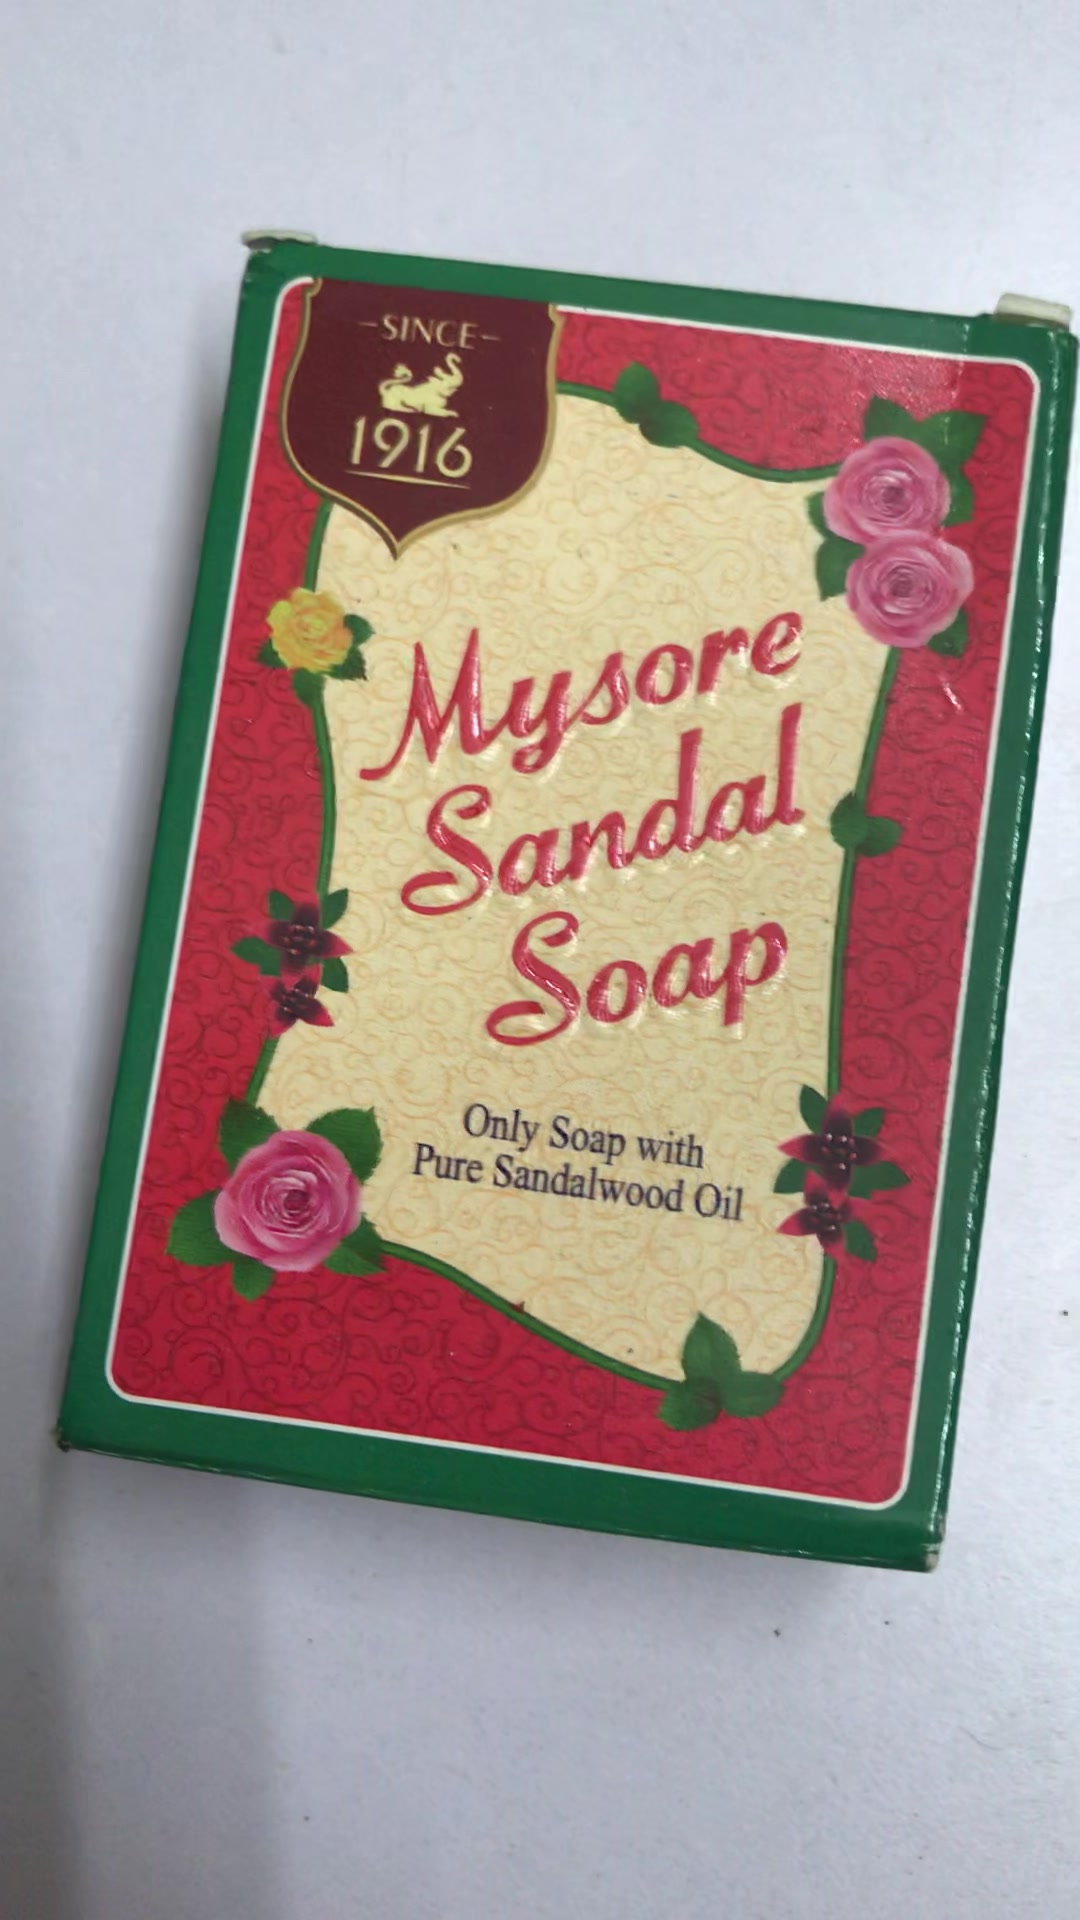mysore sandal soap: (53, 233, 1073, 1573)
